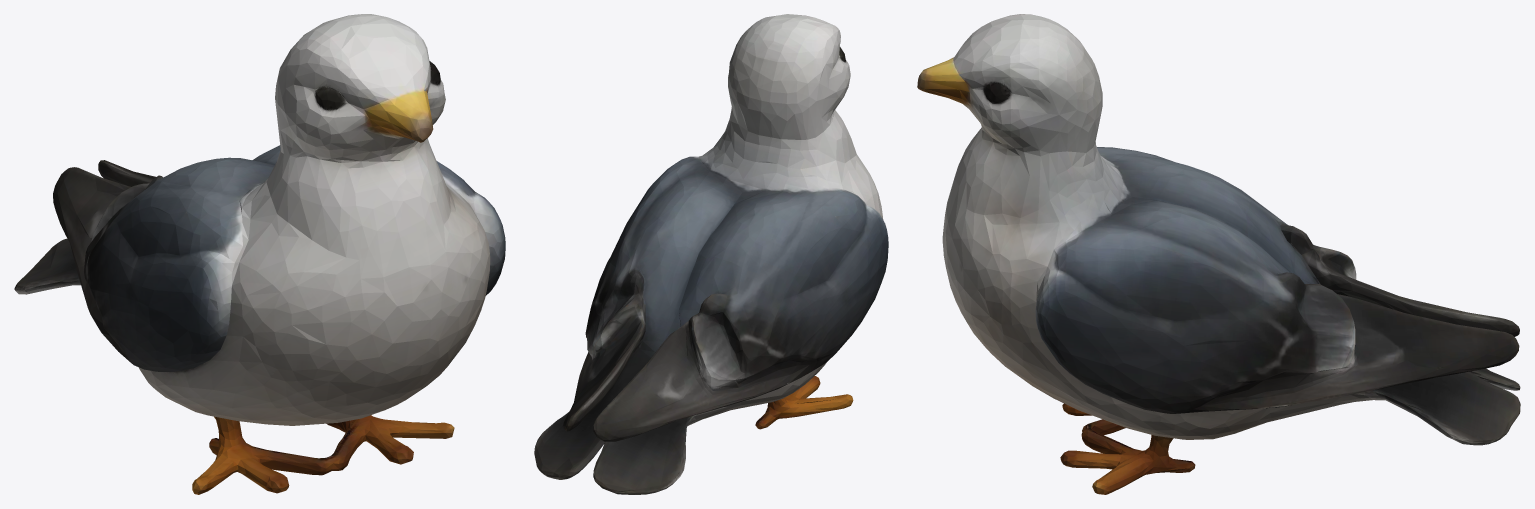
The picture shows the model from 3 angles, left to right: view 1: azimuth 30°, elevation 25°; view 2: azimuth 150°, elevation 25°; view 3: azimuth 270°, elevation 25°; orthographic projection. The views are drawn at different scales.
Parts seen in each view (by area): view 1: world; view 2: world; view 3: world.
Boxes of the visible parts, x1=… form: world: x1=14, y1=14, x2=505, y2=494; world: x1=534, y1=14, x2=888, y2=494; world: x1=917, y1=14, x2=1520, y2=494.
Size of the model in its own units: 0.5438 by 0.7689 by 0.9994.
1 material, 1 textured.
